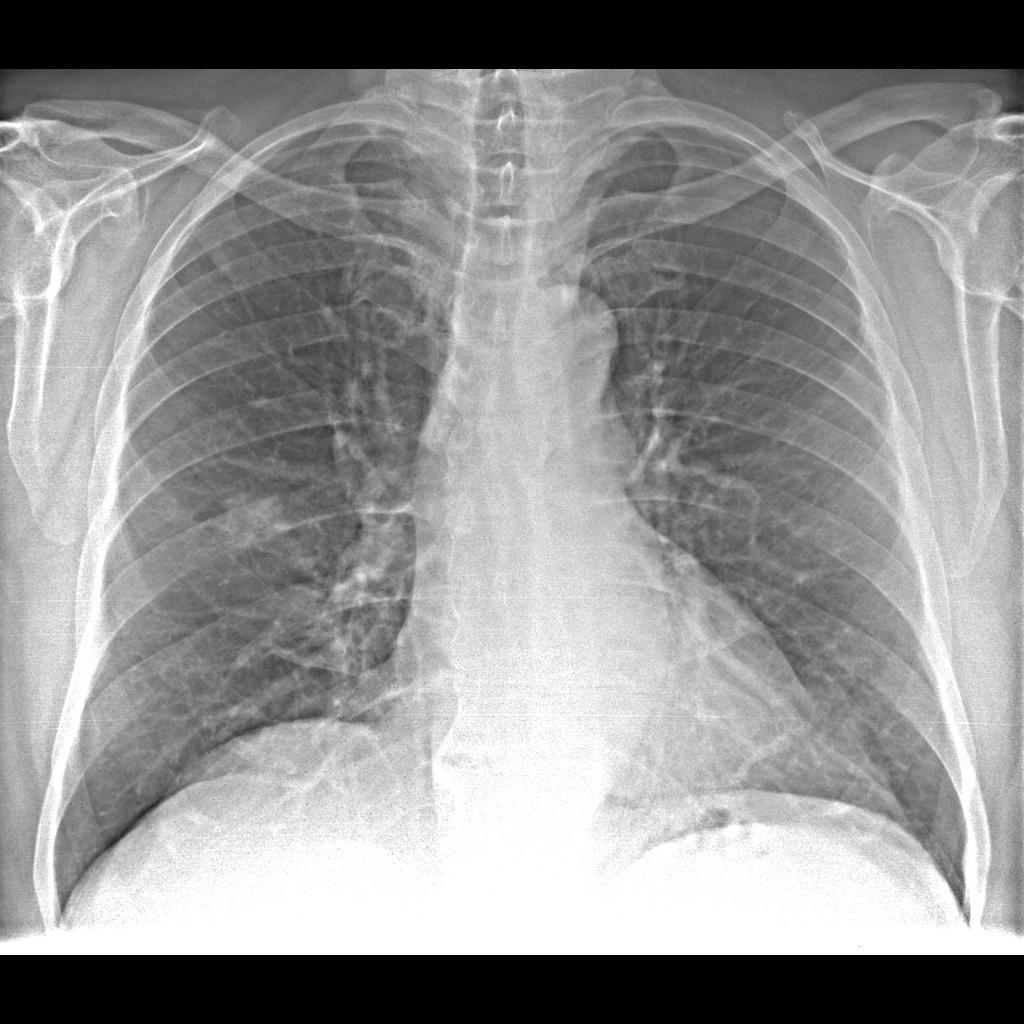Nodule: (195, 468, 301, 553)
